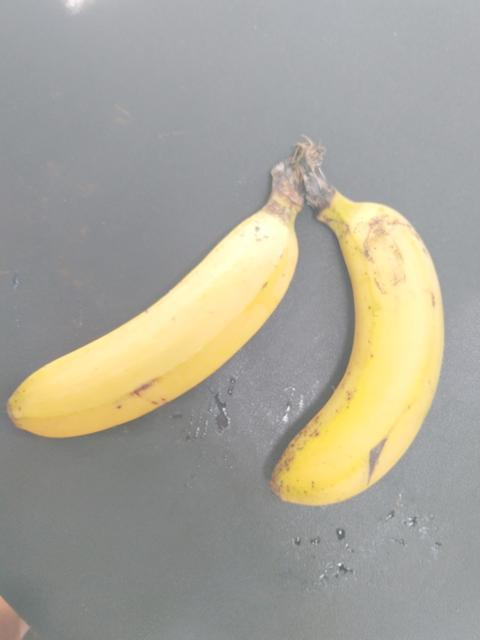freshripe: (11, 192, 294, 440)
ripe: (239, 191, 445, 522)
